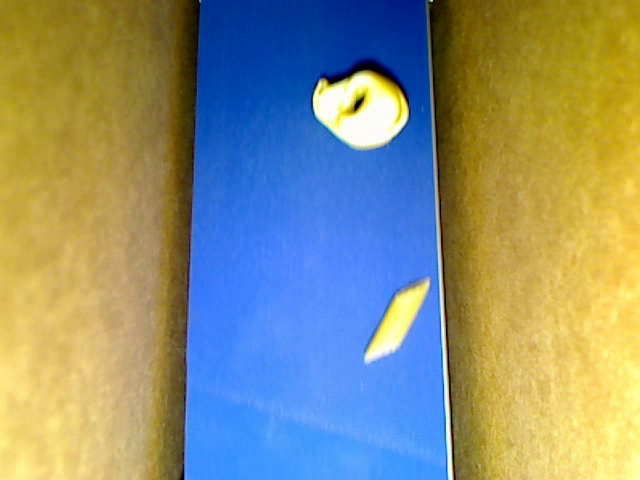penne: (362, 279, 432, 363)
tortellini: (312, 69, 408, 149)
